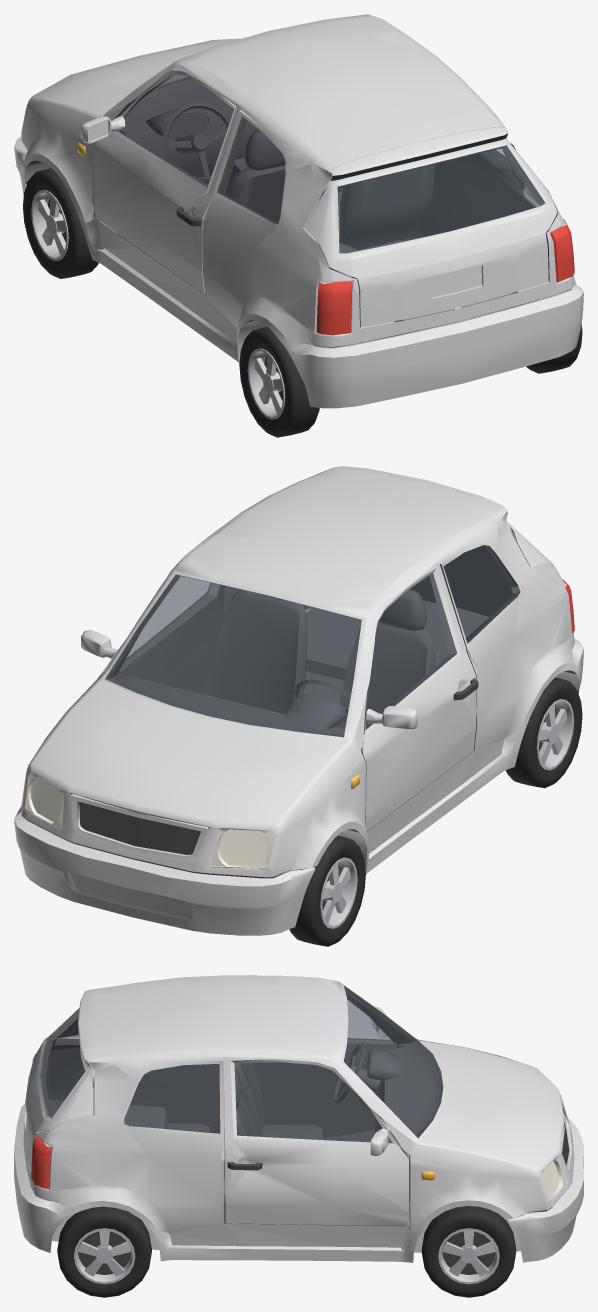
Rendered from hatchback.glb.
3 renders of one model, top to bottom at view 1: azimuth 30°, elevation 25°; view 2: azimuth 150°, elevation 25°; view 3: azimuth 270°, elevation 25°, orthographic. The views are drawn at different scales.
Visible parts, largest first — view 1: body, tailgate_mesh, left_door_mesh, wheel_rl_mesh, wheel_fl_mesh, right_door_mesh, wheel_rr_mesh; view 2: body, left_door_mesh, right_door_mesh, wheel_fl_mesh, wheel_rl_mesh, tailgate_mesh; view 3: body, right_door_mesh, left_door_mesh, tailgate_mesh, wheel_fr_mesh, wheel_rr_mesh.
Part boxes in pixels (bbox=[...]): body: bbox=[14, 14, 583, 408]; tailgate_mesh: bbox=[304, 127, 557, 327]; left_door_mesh: bbox=[81, 64, 240, 294]; wheel_rl_mesh: bbox=[239, 326, 319, 437]; wheel_fl_mesh: bbox=[23, 168, 98, 278]; right_door_mesh: bbox=[426, 159, 455, 232]; wheel_rr_mesh: bbox=[526, 324, 582, 373]; body: bbox=[14, 468, 583, 935]; left_door_mesh: bbox=[361, 563, 478, 833]; right_door_mesh: bbox=[81, 557, 224, 696]; wheel_fl_mesh: bbox=[289, 835, 365, 946]; wheel_rl_mesh: bbox=[506, 677, 582, 788]; tailgate_mesh: bbox=[330, 466, 556, 607]; body: bbox=[14, 975, 583, 1262]; right_door_mesh: bbox=[224, 1058, 409, 1228]; left_door_mesh: bbox=[252, 997, 396, 1127]; tailgate_mesh: bbox=[24, 989, 94, 1170]; wheel_fr_mesh: bbox=[421, 1206, 516, 1297]; wheel_rr_mesh: bbox=[57, 1206, 151, 1297].
Size of the model in its own units: 2.22 by 1.77 by 3.9.
